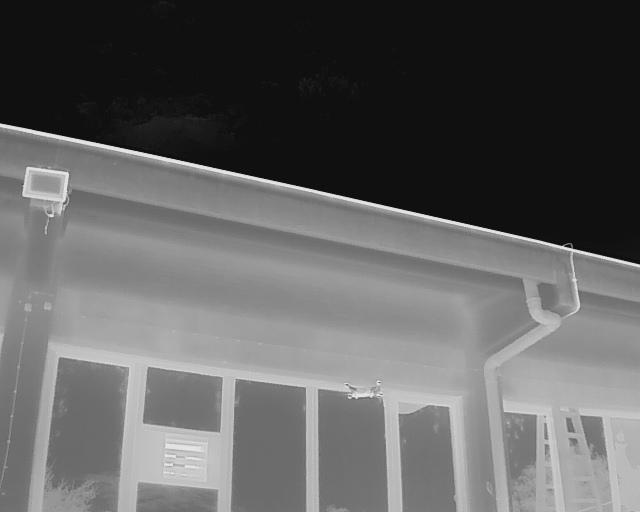drone: (335, 377, 393, 402)
